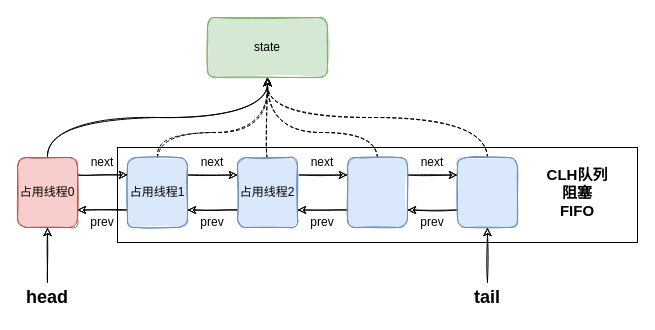
Some shapes in this 655 by 330 pixel diagram are drawn without their labels. Here are the shapes that lost their labels. From the top down, the centre of each, then its label:
(377,192): 占用线程3
(487,192): 占用线程4
